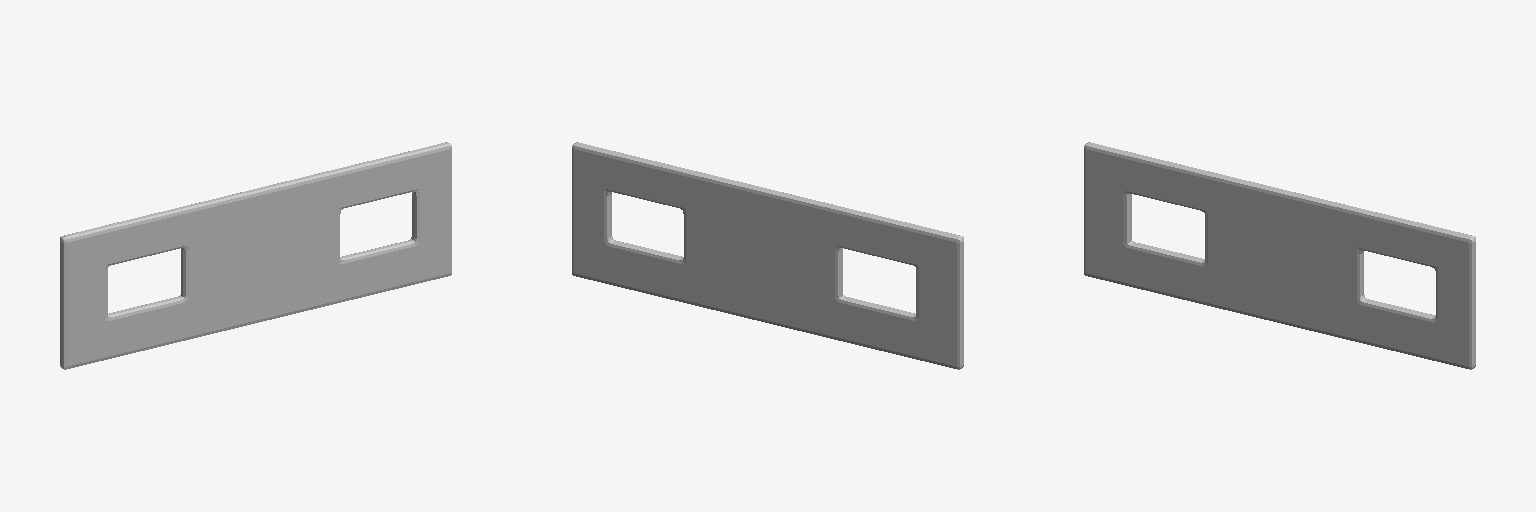
File: titlePlate.obj
3 renders of one model, left to right at view 1: azimuth 30°, elevation 25°; view 2: azimuth 150°, elevation 25°; view 3: azimuth 330°, elevation 25°, orthographic.
Parts seen in each view (by area): view 1: Cube.002_Cube.006; view 2: Cube.002_Cube.006; view 3: Cube.002_Cube.006.
Part boxes in pixels (x1,y1,x2,y2): Cube.002_Cube.006: (60, 142, 451, 369); Cube.002_Cube.006: (572, 142, 963, 369); Cube.002_Cube.006: (1084, 142, 1475, 369).
Bounding box in the file's own units: 34.21 × 11.1 × 0.8119.